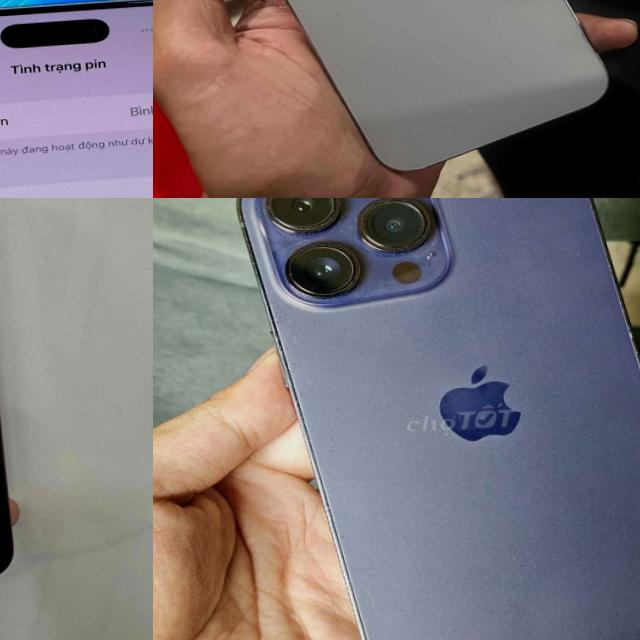scratch: (268, 225, 370, 321), (348, 198, 444, 272), (244, 198, 350, 243), (320, 466, 350, 550), (432, 387, 469, 447), (338, 322, 353, 336)
